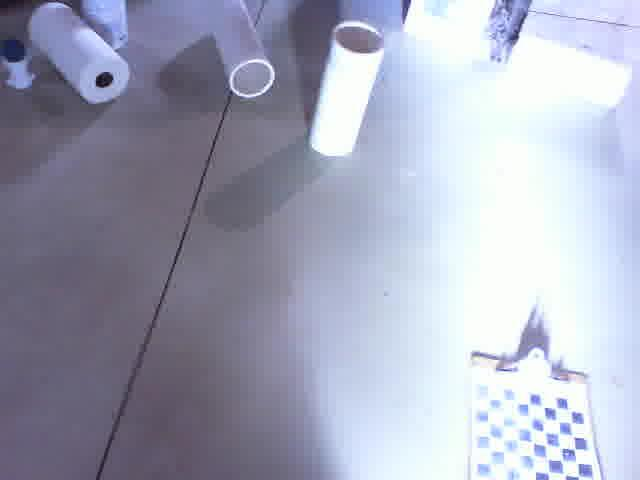coral: (29, 0, 129, 105), (309, 22, 385, 157), (208, 0, 274, 98)
